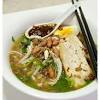soto: (11, 16, 98, 93)
